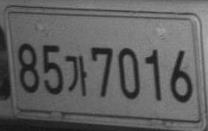0: (117, 47, 140, 99)
1: (143, 49, 166, 100)
5: (42, 44, 63, 94)
6: (169, 50, 193, 103)
7: (90, 46, 113, 98)
8: (17, 42, 39, 94)
가: (64, 55, 88, 96)
